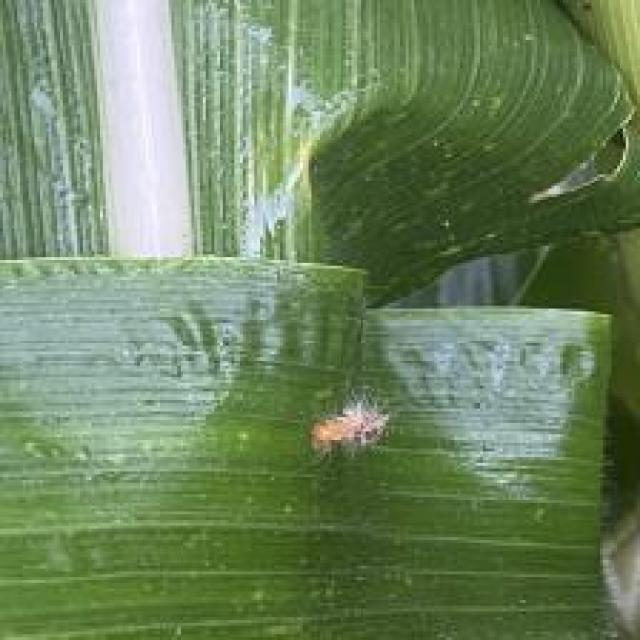Plaga: (288, 401, 408, 475)
